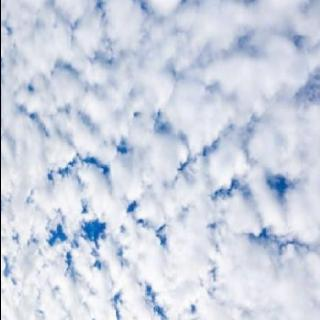Stratus: (0, 43, 320, 320)
